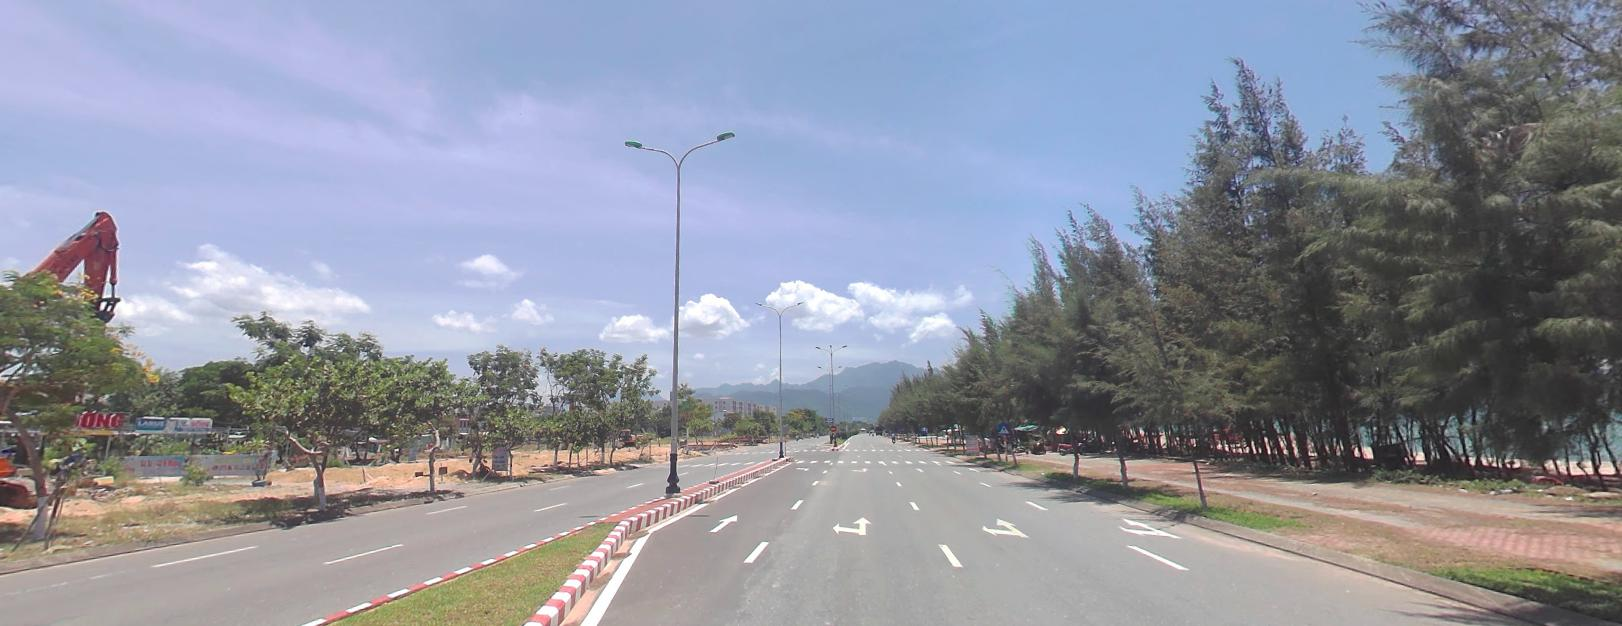Cam nguoc chieu: (830, 424, 836, 430)
